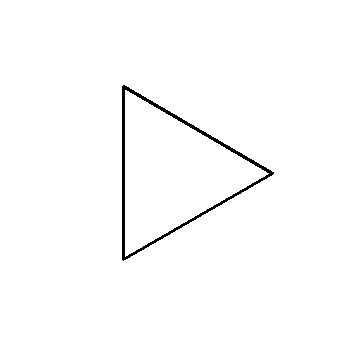line_segment: (121, 85, 274, 261)
